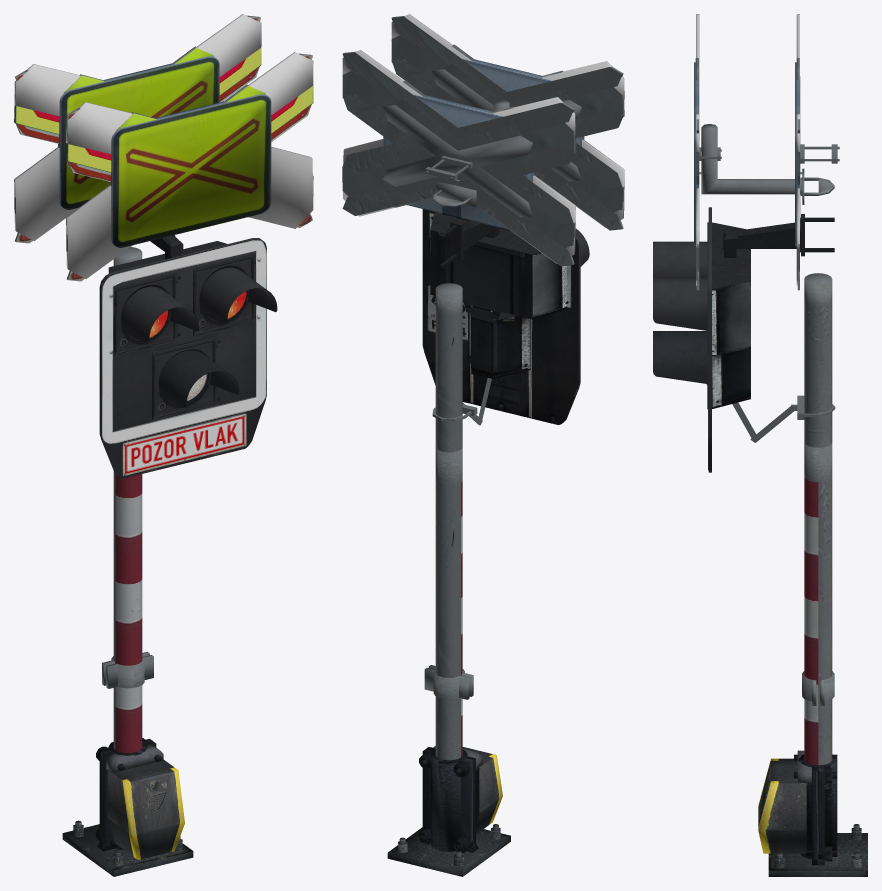
The model's file is azd97_vyst.obj.
3 views of the same model, side by side, from view 1: azimuth 30°, elevation 25°; view 2: azimuth 150°, elevation 25°; view 3: azimuth 270°, elevation 25° (orthographic). The views are drawn at different scales.
Visible parts, largest first — view 1: vystraznik, kriz_sk_refl, kriz_xk_refl_velky, kriz_sk_refl_stozar, kriz_xk_refl_stozar_velky, azd97_stozar_pruhy, azd97_podstavec, azd97_podklad, stinidlo_poz, azd97_stozar_kratky, kriz_1k_refl_velky, kriz_1k_refl_stozar_velky (+5 smaller); view 2: vystraznik, kriz_xk_back_stozar_velky, azd97_stozar_kratky, kriz_xk_back_velky, azd97_zaklad, kriz_1k_back_stozar_maly, azd97_stozar_delsi, kriz_1k_refl_stozar_maly, kriz_1k_refl_stozar_velky, kriz_1k_refl_velky, azd97_podklad, kriz_sk_refl_stozar (+9 smaller); view 3: vystraznik, azd97_stozar_kratky, azd97_stozar_delsi, azd97_podstavec, azd97_stozar_pruhy, azd97_zaklad, nosnik, azd97_podklad, stinidlo_poz, vystraznik_drzak_horni, vystraznik_drzak_spodni, kriz_xk_refl_stozar_velky (+3 smaller).
Part boxes in pixels (x1,y1,x2,y2): vystraznik: [99, 238, 277, 478]; kriz_sk_refl: [109, 94, 271, 247]; kriz_xk_refl_velky: [66, 52, 313, 278]; kriz_sk_refl_stozar: [58, 56, 219, 209]; kriz_xk_refl_stozar_velky: [14, 14, 261, 240]; azd97_stozar_pruhy: [115, 474, 142, 752]; azd97_podstavec: [106, 745, 184, 859]; azd97_podklad: [62, 820, 193, 876]; stinidlo_poz: [158, 350, 239, 407]; azd97_stozar_kratky: [102, 471, 153, 749]; kriz_1k_refl_velky: [66, 86, 313, 251]; kriz_1k_refl_stozar_velky: [14, 48, 261, 213]; vystraznik: [422, 209, 589, 424]; kriz_xk_back_stozar_velky: [342, 51, 574, 266]; azd97_stozar_kratky: [424, 446, 473, 760]; kriz_xk_back_velky: [391, 16, 623, 230]; azd97_zaklad: [418, 747, 479, 853]; kriz_1k_back_stozar_maly: [383, 105, 532, 217]; azd97_stozar_delsi: [435, 283, 462, 452]; kriz_1k_refl_stozar_maly: [387, 99, 529, 221]; kriz_1k_refl_stozar_velky: [342, 71, 575, 248]; kriz_1k_refl_velky: [391, 35, 624, 212]; azd97_podklad: [387, 824, 510, 876]; kriz_sk_refl_stozar: [383, 94, 535, 229]; vystraznik: [653, 207, 750, 472]; azd97_stozar_kratky: [802, 442, 834, 765]; azd97_stozar_delsi: [804, 273, 832, 447]; azd97_podstavec: [758, 750, 811, 853]; azd97_stozar_pruhy: [804, 477, 818, 765]; azd97_zaklad: [794, 754, 837, 865]; nosnik: [701, 124, 834, 204]; azd97_podklad: [768, 824, 867, 876]; stinidlo_poz: [653, 331, 707, 383]; vystraznik_drzak_horni: [723, 214, 834, 257]; vystraznik_drzak_spodni: [732, 395, 835, 442]; kriz_xk_refl_stozar_velky: [796, 14, 799, 285].
Bounding box in the file's own units: 0.6555 × 2.08 × 0.5093.
